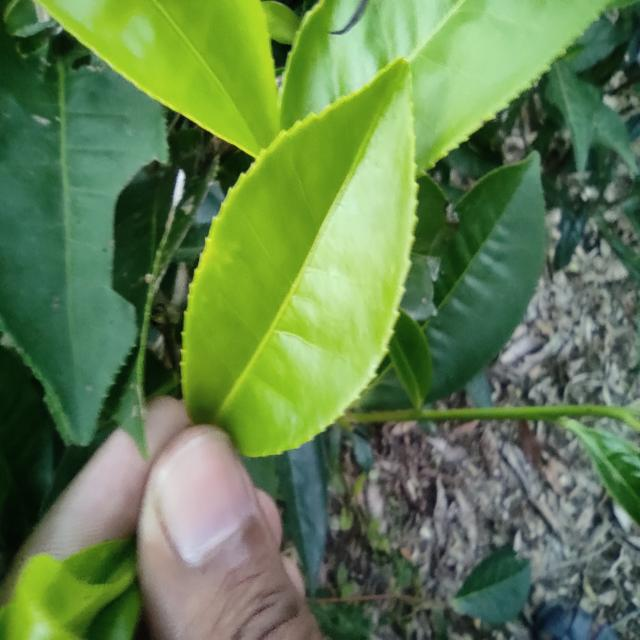Category C 4-7 days: (152, 45, 443, 493)
